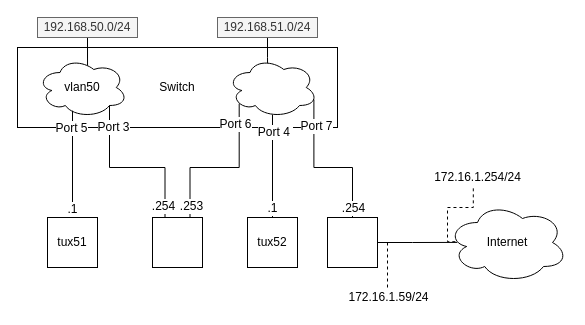
The diagram is 585 pixels wide and 325 high, and some of its shapes have lost their labels. The centre of each missing label's shape, as x and y in pixels:
Router: the point at 352,242
tux54: the point at 177,242
vlan51: the point at 272,87
